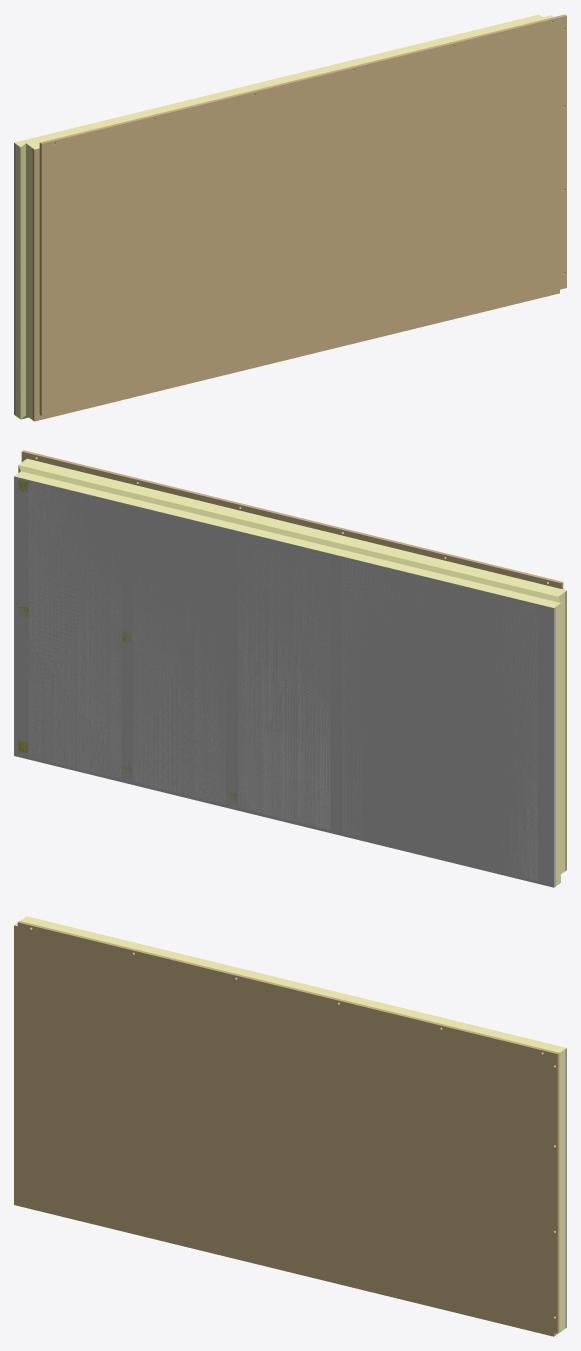
Rendered from FastIn120wv.glb.
3 renders of one model, top to bottom at view 1: azimuth 30°, elevation 25°; view 2: azimuth 150°, elevation 25°; view 3: azimuth 330°, elevation 25°, orthographic. The views are drawn at different scales.
Parts seen in each view (by area): view 1: Multiplex_Platte, Schaumkern, Flazleiste_Lang, Falzleiste_Kurz, Blechwanne; view 2: Blechwanne, Vakuumplatten, Schaumkern, Multiplex_Platte; view 3: Multiplex_Platte, Schaumkern, Flazleiste_Lang, Falzleiste_Kurz, Blechwanne.
Part boxes in pixels (left/top/right/bottom): Multiplex_Platte: left=39, top=14, right=566, bottom=415; Schaumkern: left=14, top=14, right=553, bottom=419; Flazleiste_Lang: left=32, top=289, right=559, bottom=421; Falzleiste_Kurz: left=32, top=148, right=39, bottom=408; Blechwanne: left=14, top=143, right=15, bottom=415; Blechwanne: left=14, top=476, right=555, bottom=887; Vakuumplatten: left=28, top=483, right=537, bottom=880; Schaumkern: left=14, top=458, right=566, bottom=887; Multiplex_Platte: left=21, top=450, right=563, bottom=589; Multiplex_Platte: left=17, top=921, right=559, bottom=1333; Schaumkern: left=14, top=916, right=566, bottom=1334; Flazleiste_Lang: left=14, top=1192, right=555, bottom=1336; Falzleiste_Kurz: left=14, top=925, right=17, bottom=1192; Blechwanne: left=565, top=1048, right=566, bottom=1328.
Bounding box in the file's own units: 2.02 × 1.02 × 0.12.
